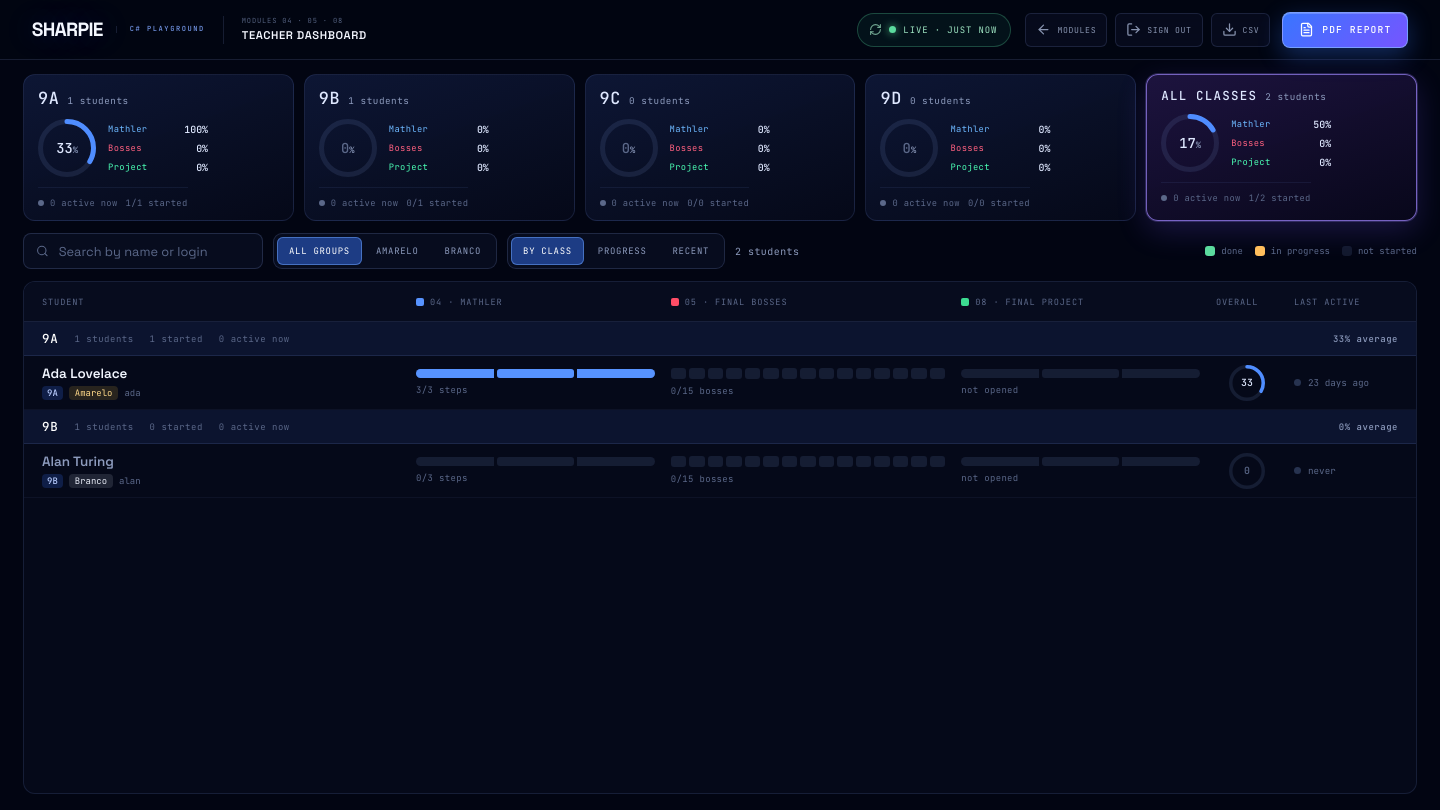
Teacher dashboard › filters by class from the class cards
The image size is (1440, 810).
Check: the text "Alan Turing" is shown, box [42,453,114,470]
Click the button "9B".
click(382, 101)  # box [304,74,575,221]
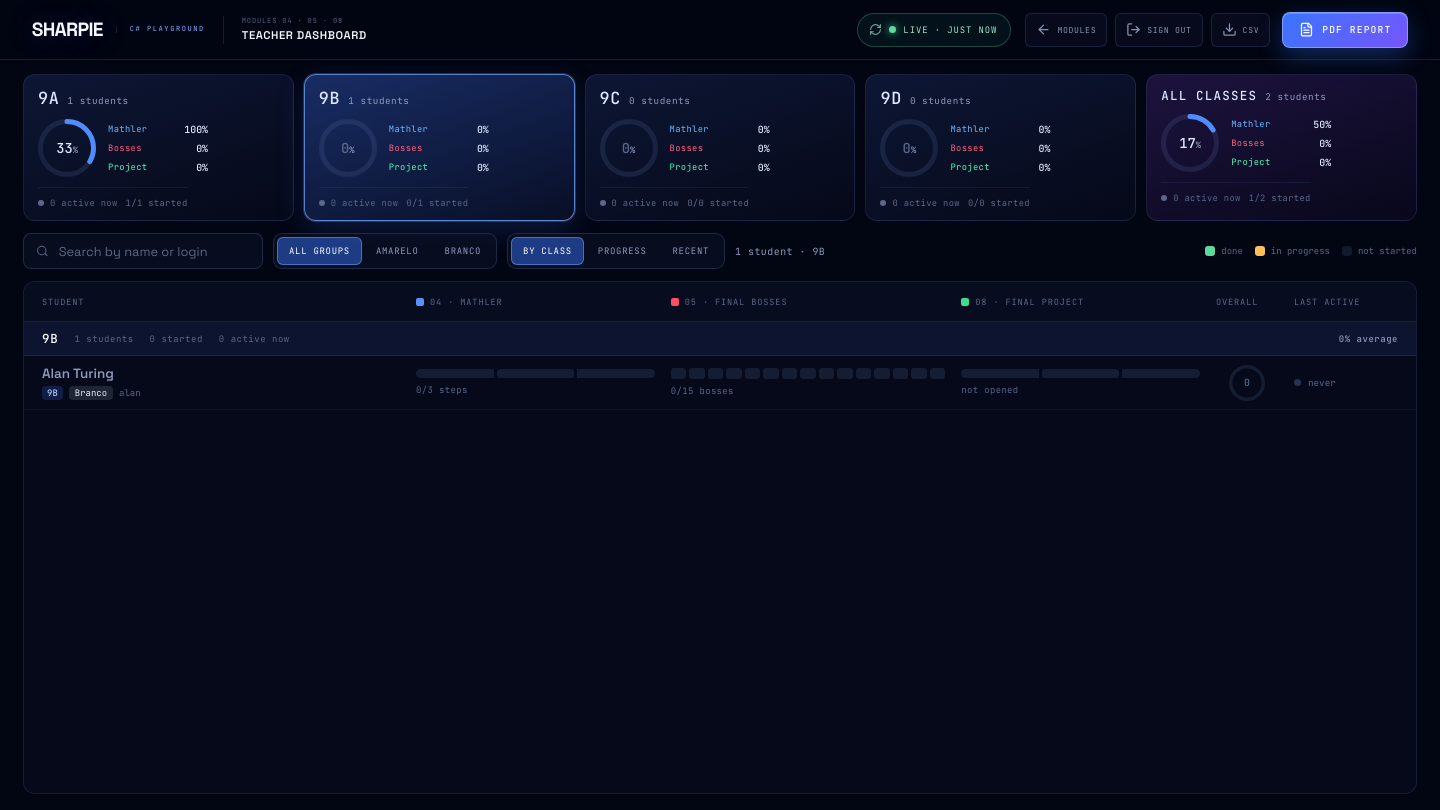
Check: the text "Alan Turing" is shown, box [42,365,114,382]
Check: the text "Ada Lovelace" is gone
